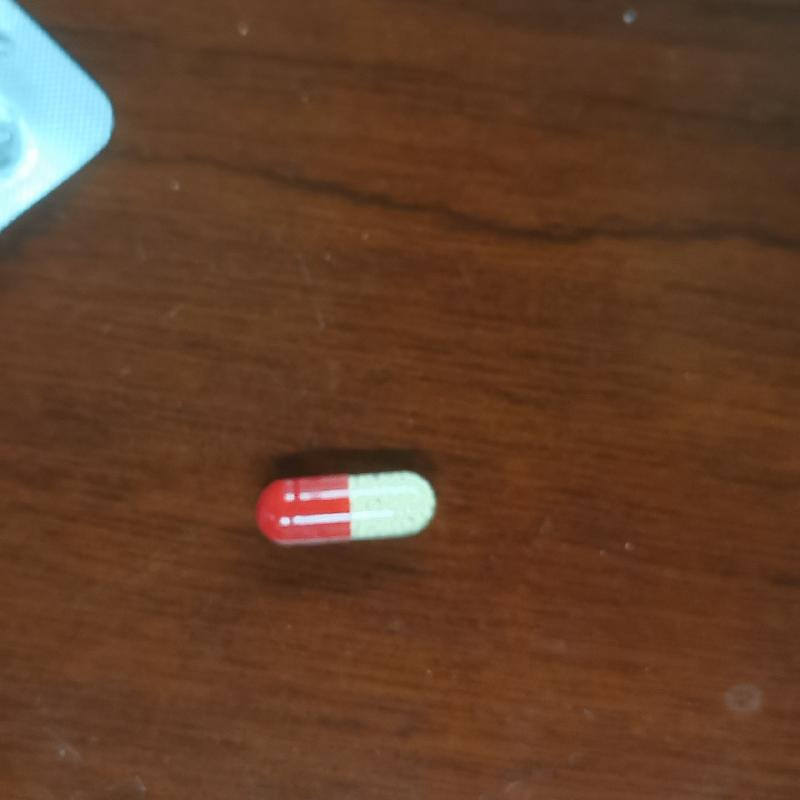pills: (244, 457, 443, 560)
